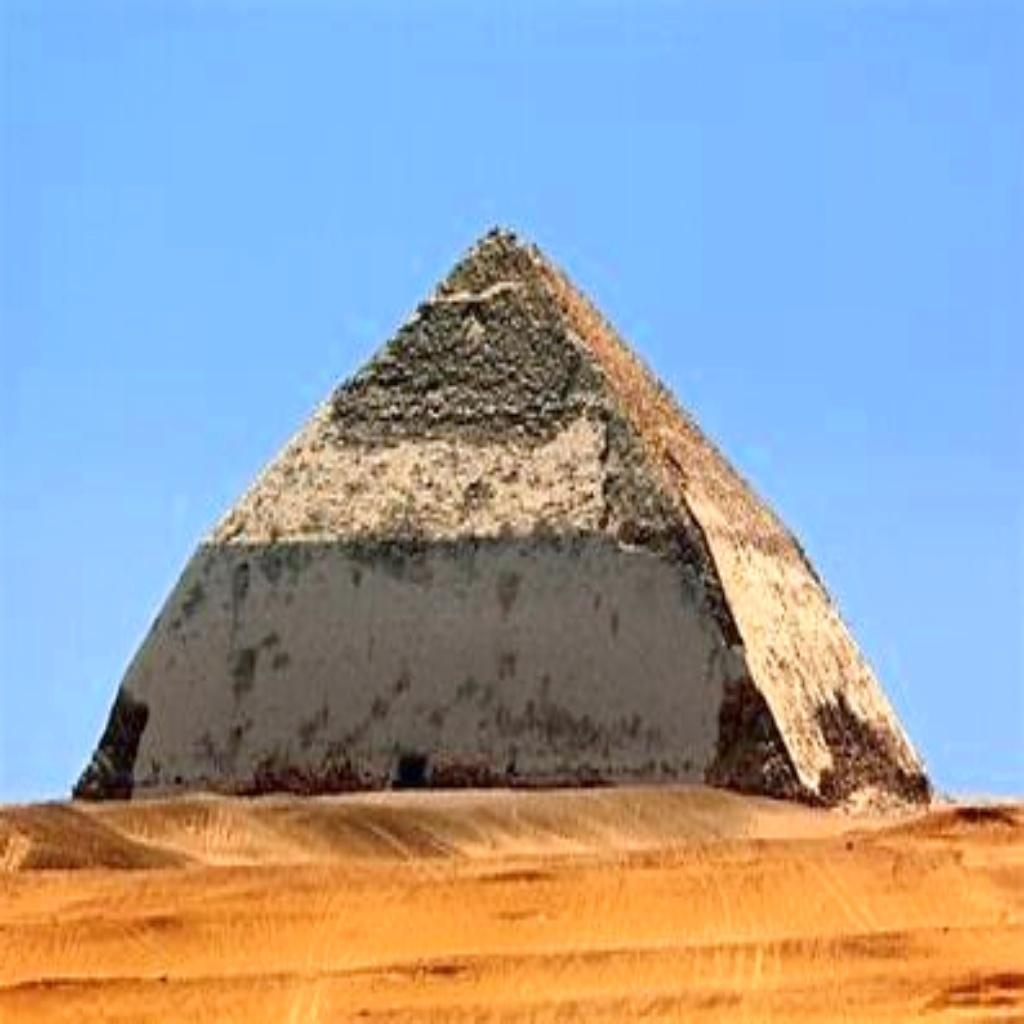Bent Pyramid of King Sneferu: (67, 216, 936, 816)
